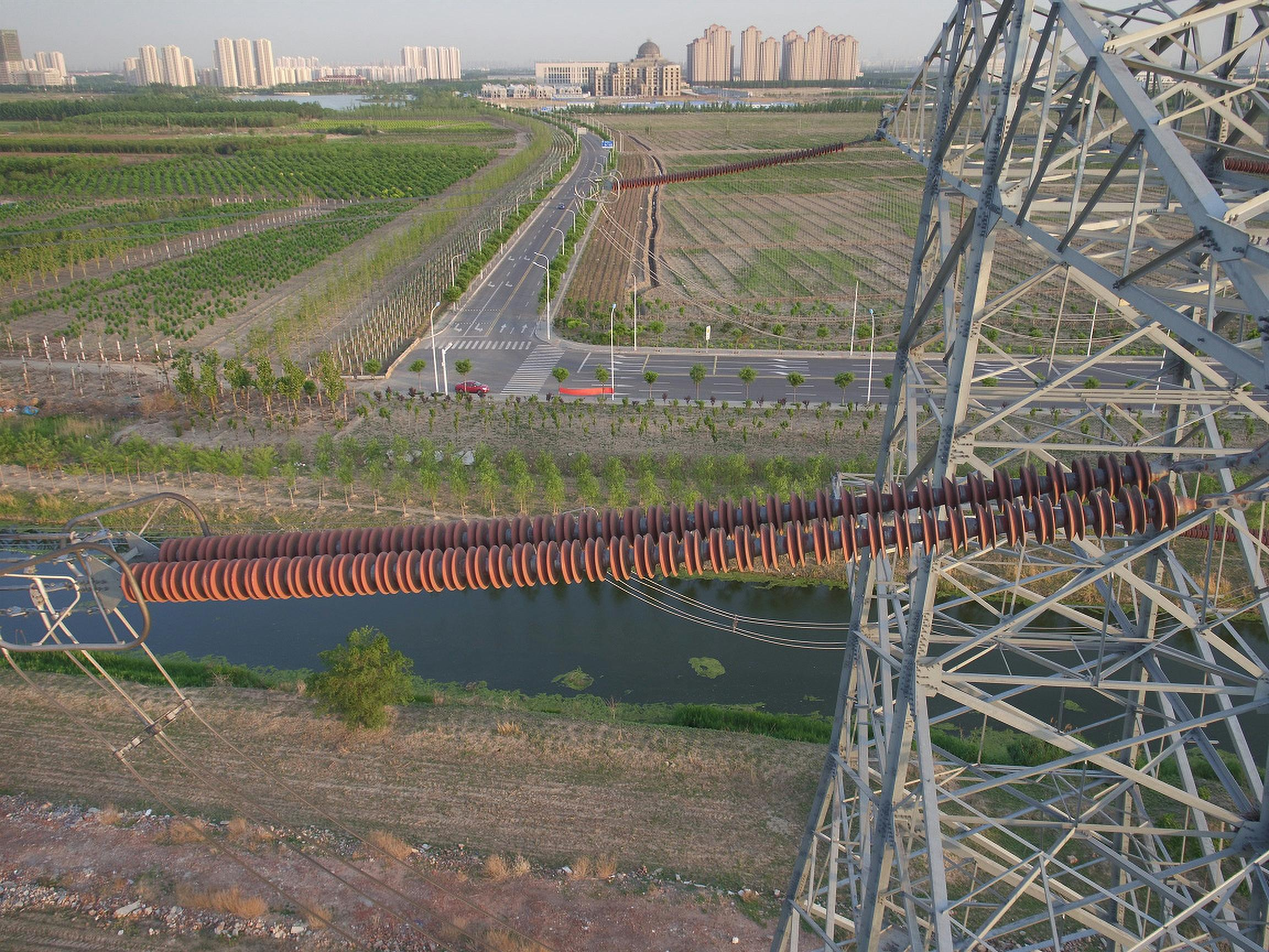insulator: (114, 449, 1182, 609), (610, 139, 847, 192), (1173, 519, 1267, 548), (1219, 154, 1269, 177)
